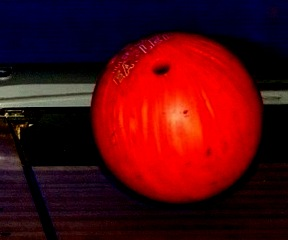ball: (93, 34, 265, 203)
